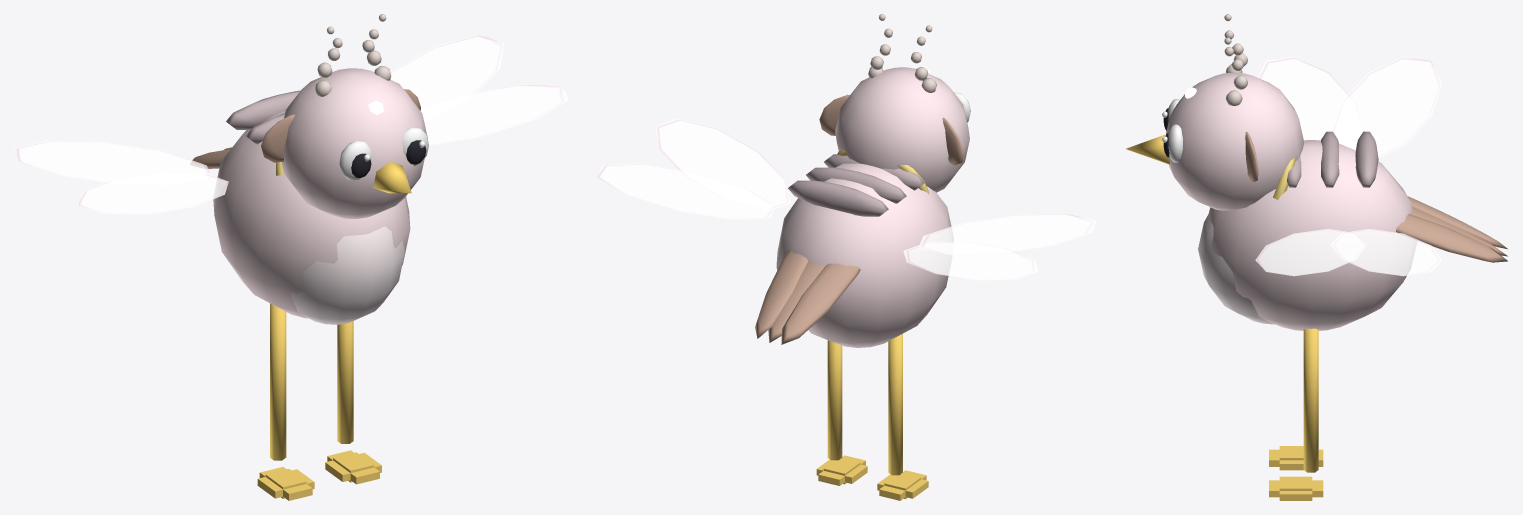
File: blossom_eagle_08.glb
3 renders of one model, left to right at view 1: azimuth 30°, elevation 25°; view 2: azimuth 150°, elevation 25°; view 3: azimuth 270°, elevation 25°, orthographic. The views are drawn at different scales.
Parts seen in each view (by area): view 1: ball; view 2: ball; view 3: ball.
Part boxes in pixels (x1,y1,x2,y2): ball: (14, 14, 568, 500); ball: (597, 14, 1096, 500); ball: (1126, 14, 1507, 500).
Bounding box in the file's own units: 1.72 × 1.66 × 1.27.
